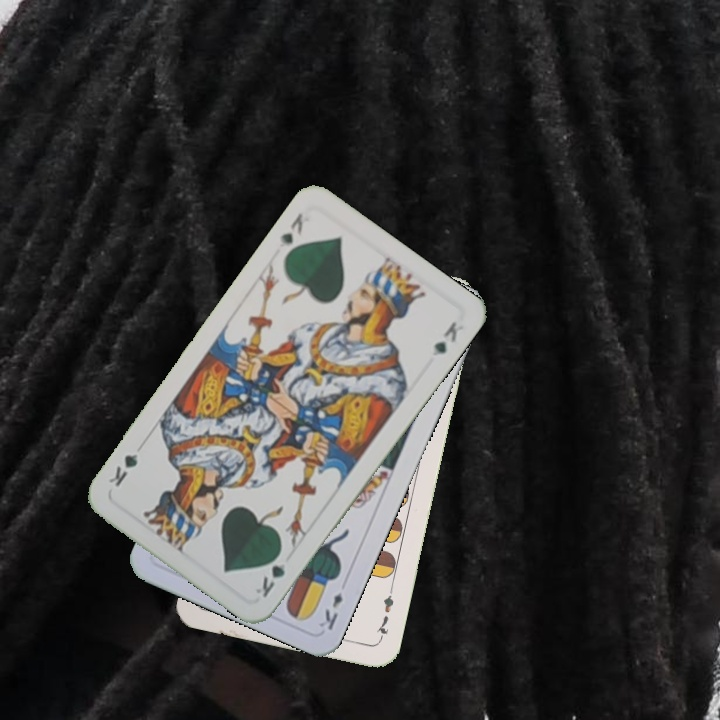E7: (372, 584, 397, 643)
EK: (315, 588, 345, 633)
GK: (251, 545, 288, 601), (276, 208, 306, 247)
